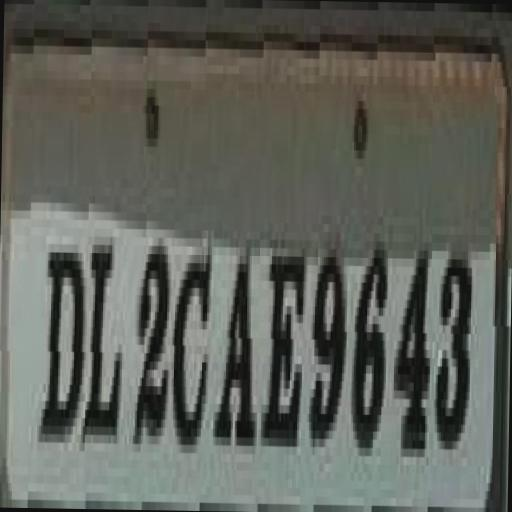number plate: (9, 44, 512, 507)
